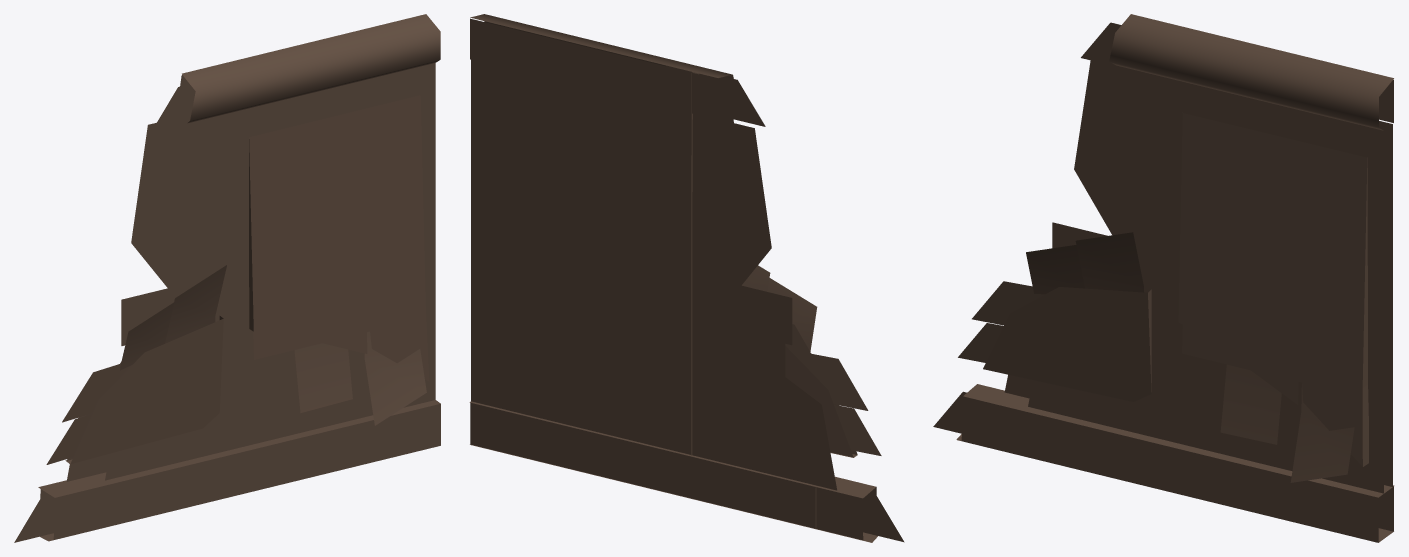
The model's file is DBK_Molding_Bottom_Side_D_Mirror.fbx.
The picture shows the model from 3 angles, left to right: view 1: azimuth 30°, elevation 25°; view 2: azimuth 150°, elevation 25°; view 3: azimuth 330°, elevation 25°; orthographic projection. The views are drawn at different scales.
Visible parts, largest first — view 1: DBK_Molding_Bottom_Side_D_Mirror; view 2: DBK_Molding_Bottom_Side_D_Mirror; view 3: DBK_Molding_Bottom_Side_D_Mirror.
Part boxes in pixels (x1,y1,x2,y2): DBK_Molding_Bottom_Side_D_Mirror: (14, 14, 440, 542); DBK_Molding_Bottom_Side_D_Mirror: (469, 14, 904, 542); DBK_Molding_Bottom_Side_D_Mirror: (933, 14, 1394, 542).
Bounding box in the file's own units: 105 × 100 × 9.92.
